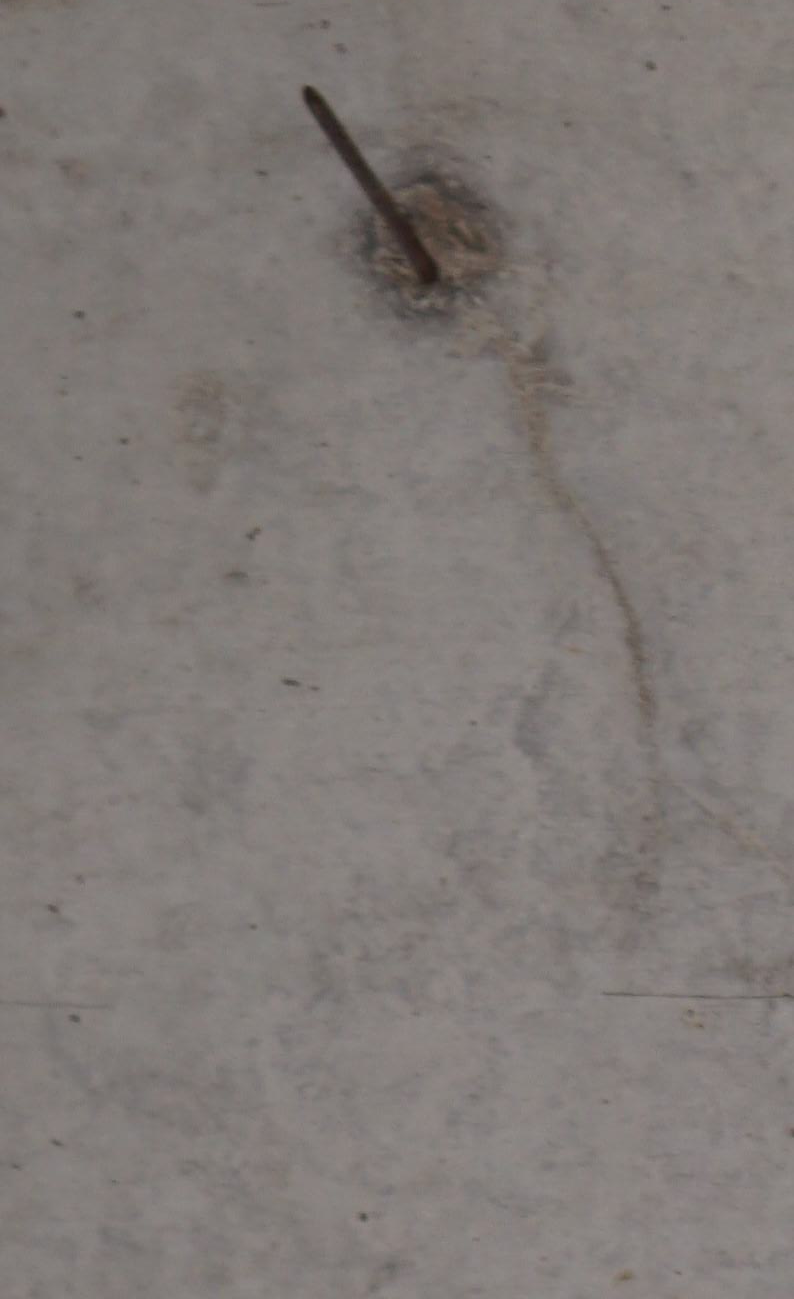Exposed reinforcement: (303, 84, 440, 285)
Spalling: (355, 171, 507, 320)
